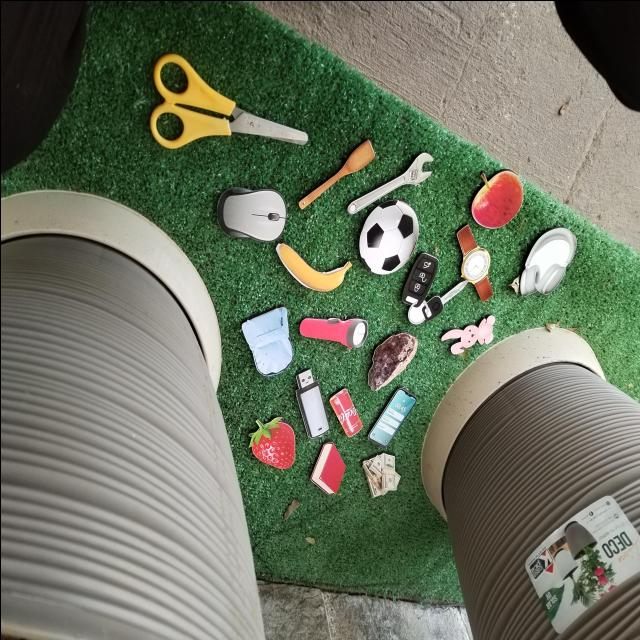Other Objects: (149, 53, 308, 149), (348, 182, 429, 288), (512, 211, 581, 314), (298, 138, 374, 210), (347, 151, 433, 214), (239, 303, 299, 383), (216, 185, 286, 242), (275, 241, 352, 292), (470, 168, 523, 228), (367, 331, 418, 392), (455, 223, 493, 302), (367, 386, 416, 446), (407, 278, 468, 324), (439, 313, 498, 358), (294, 367, 329, 438), (327, 383, 365, 439), (299, 317, 366, 348), (362, 451, 400, 498)
